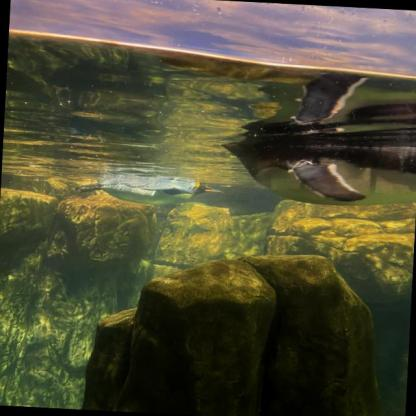penguin: (216, 113, 415, 211), (73, 174, 227, 208)
